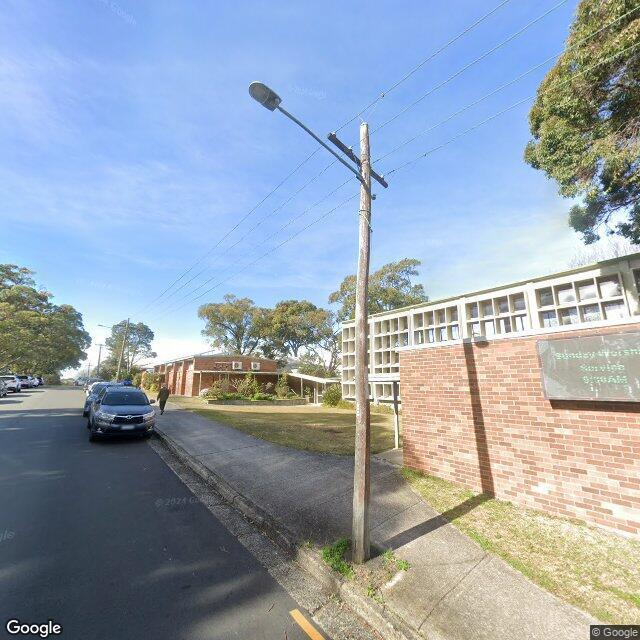crossarm: (328, 130, 388, 190), (116, 323, 136, 331)
streetlight: (248, 82, 364, 184), (97, 324, 126, 334)
timber-pole: (352, 126, 372, 564), (113, 318, 130, 382), (98, 344, 101, 378), (88, 362, 90, 378)
